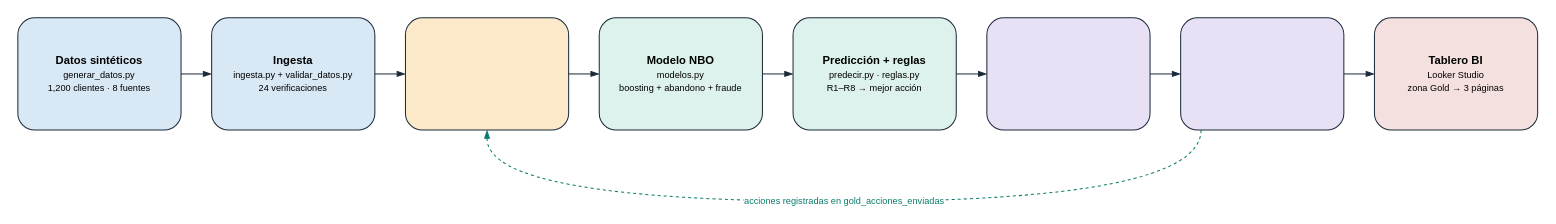
Some shapes in this 1556 by 224 pixel diagram are drawn without their labels. Each missing label, with the centre of its shape:
API FastAPI GET /recomendacion/{id} POST /acciones: pixel 1068 73
Automatización flujo_local.py (APScheduler) trigger → regla → correo: pixel 1262 73
SQLite Bronze·Silver·Gold novabank.db 10 + 11 + 9 tablas: pixel 486 73
